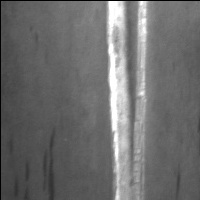inclusion: (39, 129, 57, 200), (13, 161, 31, 200), (171, 173, 183, 200)
scratches: (105, 1, 151, 200)
